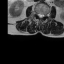CCS_normal: (40, 11, 41, 20)
LFS_normal: (44, 12, 46, 18)
LLS_normal: (41, 11, 44, 19)
RFS_normal: (36, 11, 38, 17)
RLS_normal: (38, 11, 40, 19)
